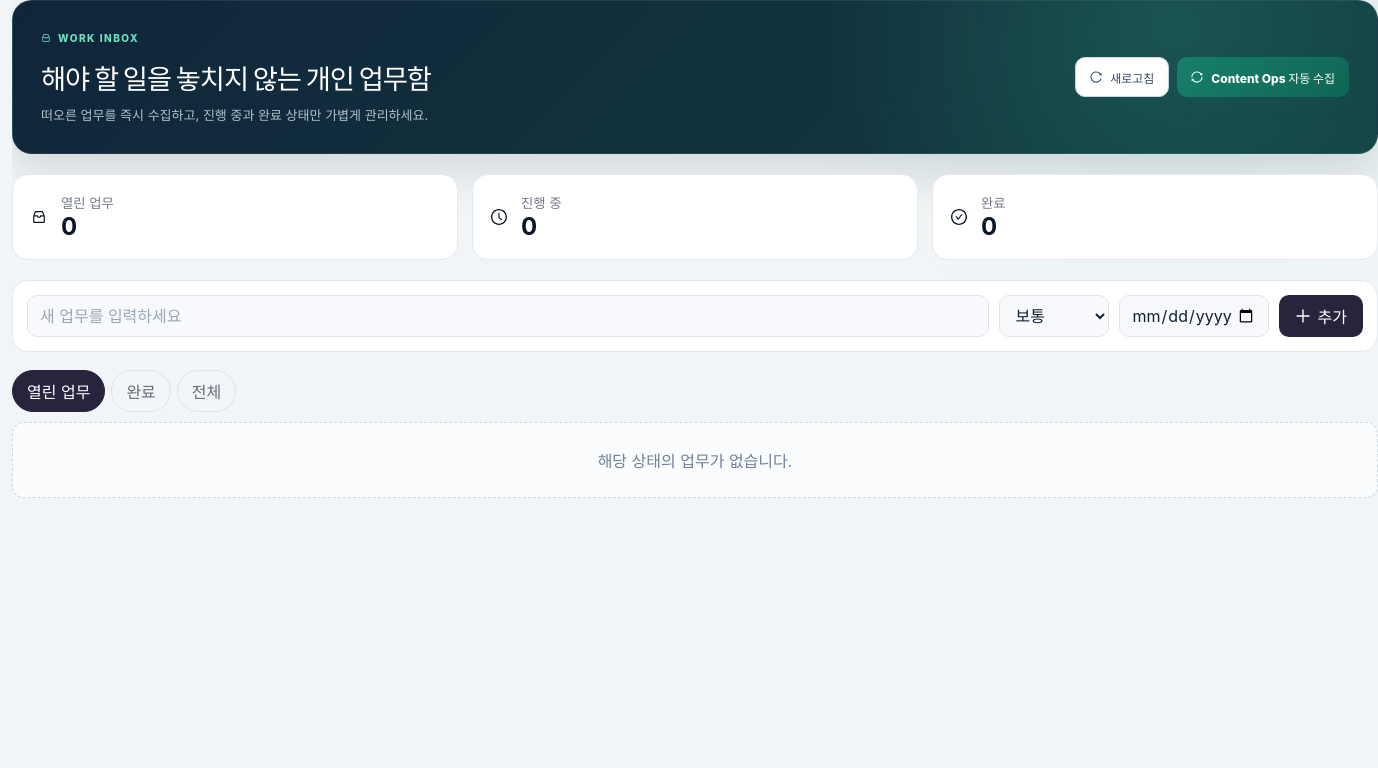
Test: WorkInbox › captures a task and displays it immediately
Type "배포 확인" into the field labelled "새 업무" at (508, 316), box [27,295,988,337]
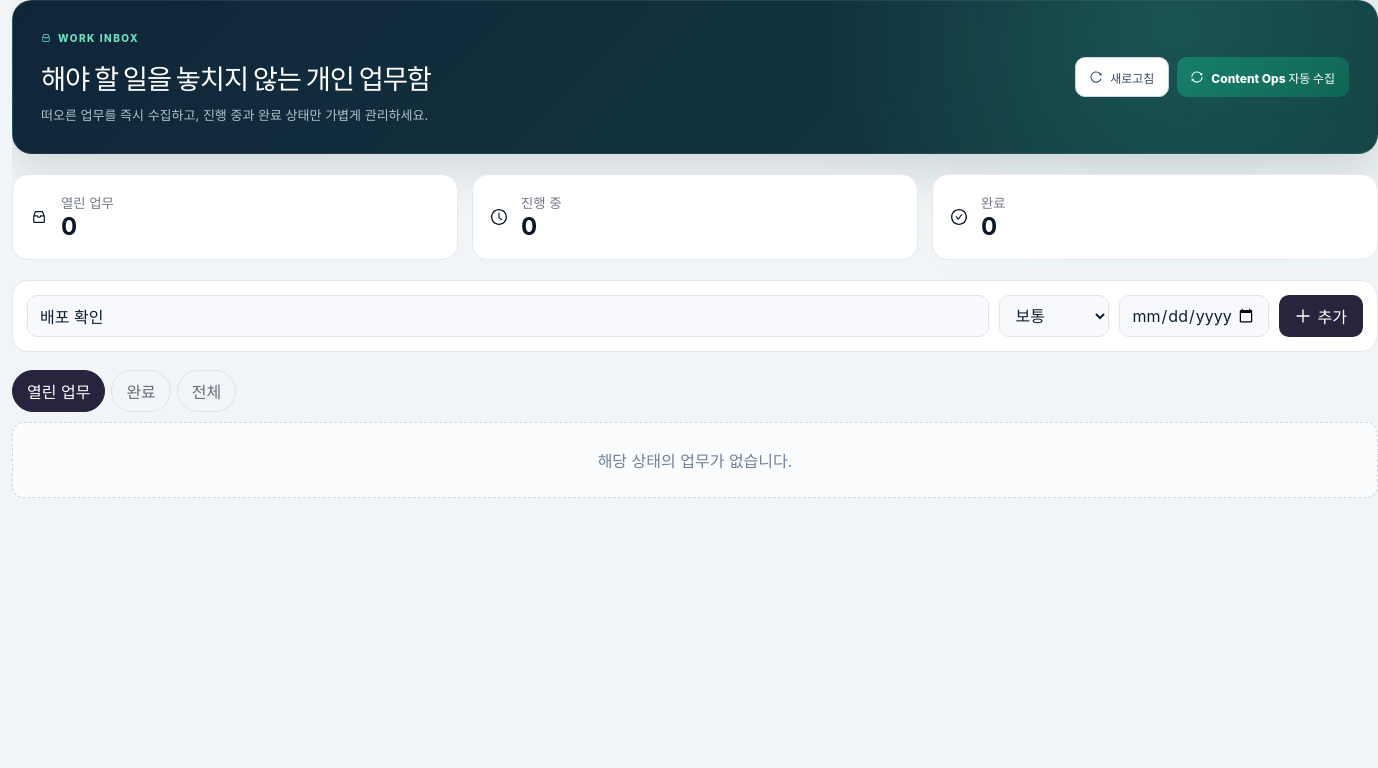
Click the button "추가" at (1321, 316), box [1278,295,1363,337]
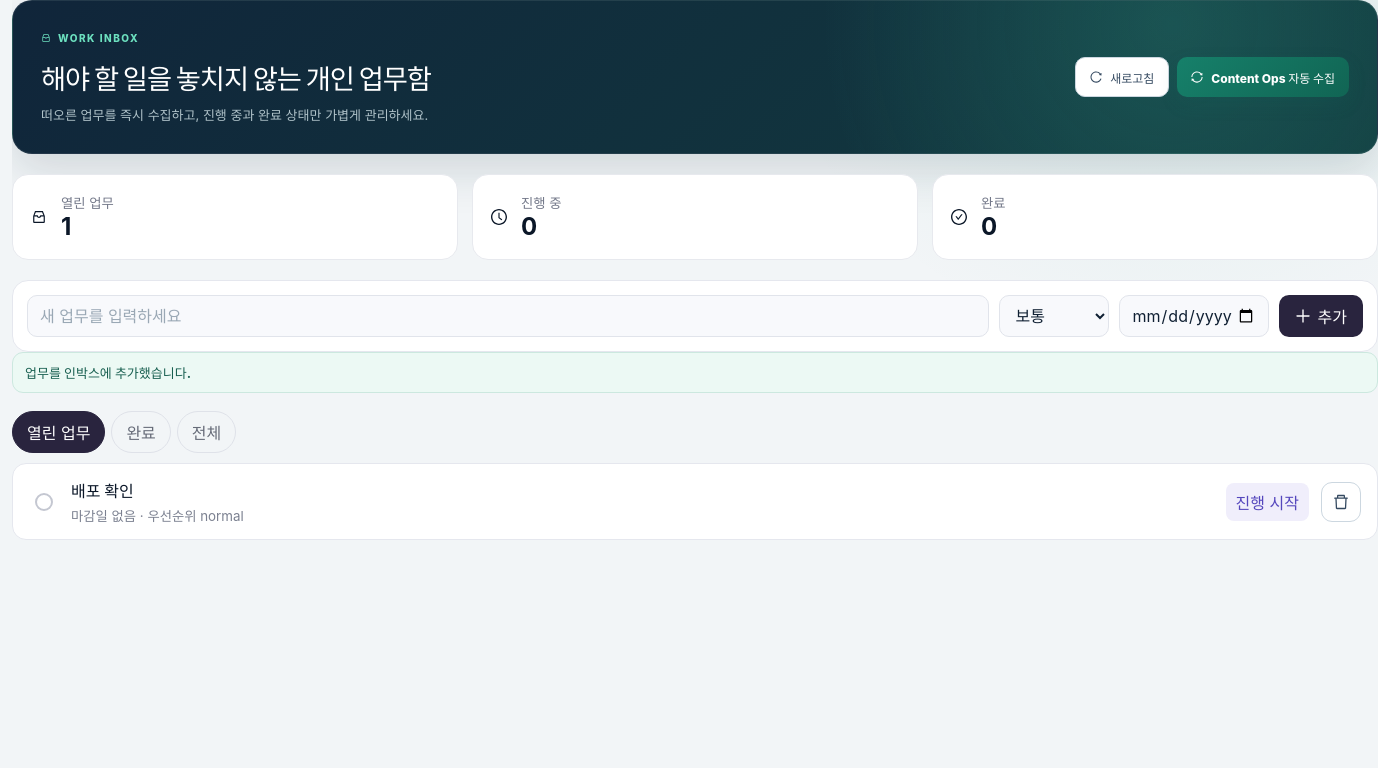
Check: the text "배포 확인" is shown, box [71,481,134,501]
